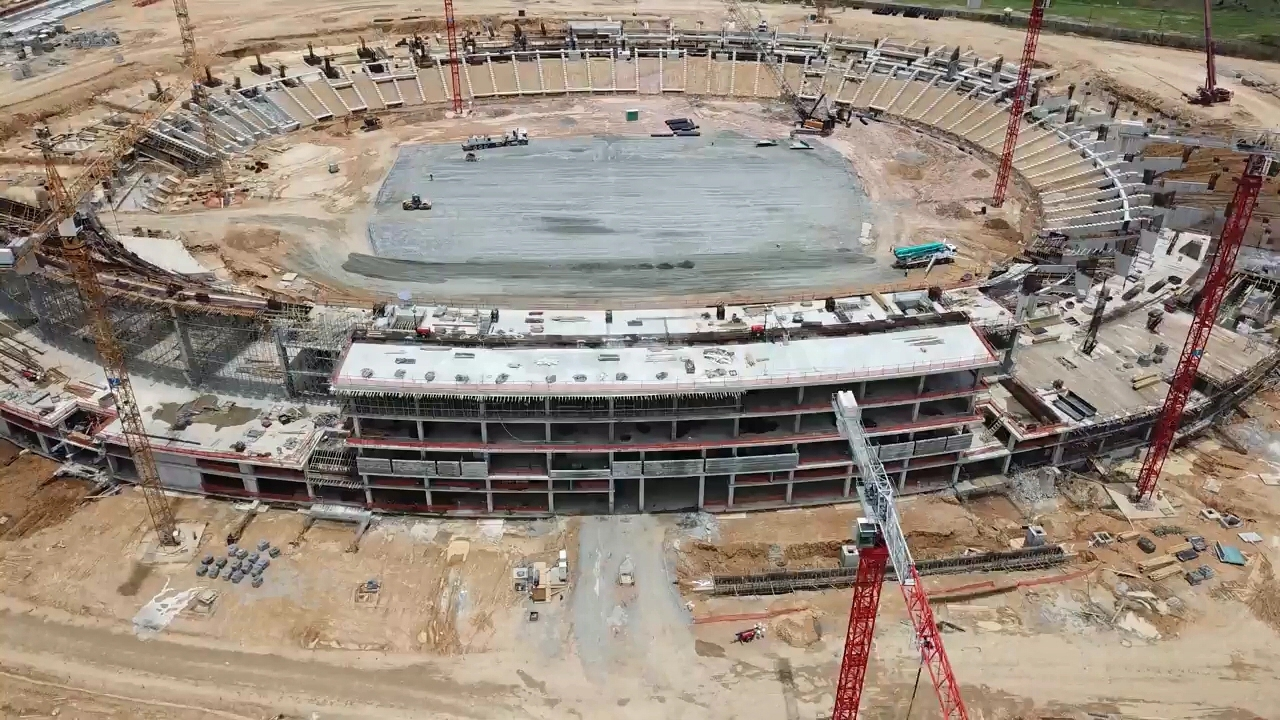kamyon: (893, 238, 962, 268), (462, 125, 534, 151)
traktor: (397, 192, 430, 215)
